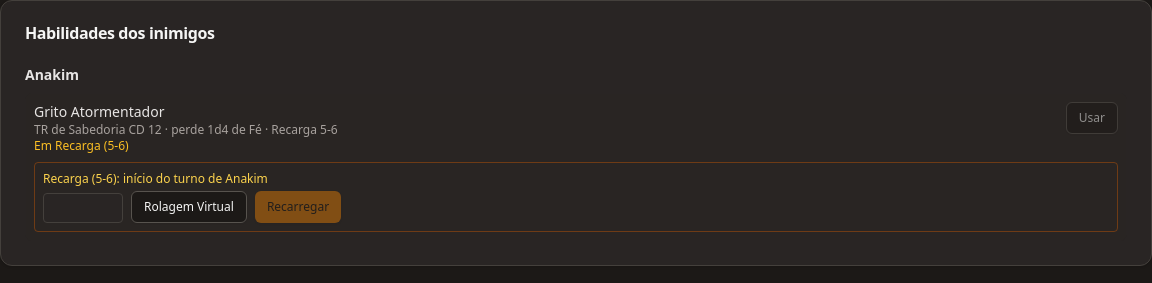
EnemyAbilityPanel: uso por combate e Recarga › só recarrega com um d6 de 1 a 6
Expected: the button with aria-label "Recarregar Grito Atormentador (Anakim)" is disabled, [255, 191, 341, 223]
Type "0" into the number field named "d6 da Recarga de Grito Atormentador (Anakim)" at [83, 208], box [43, 193, 123, 223]
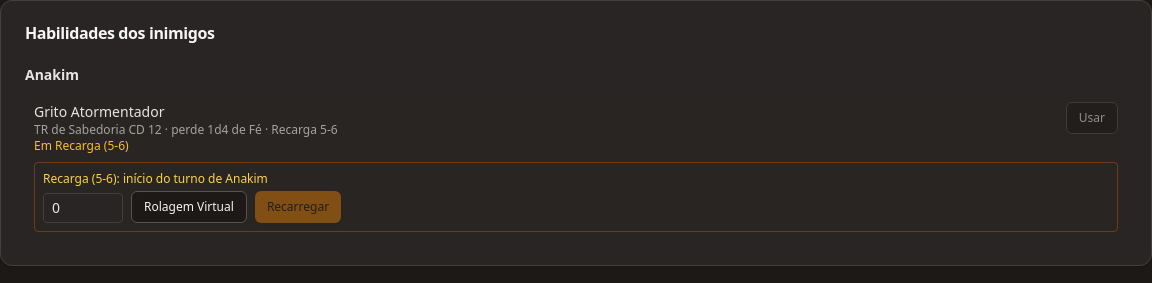
Expected: the button with aria-label "Recarregar Grito Atormentador (Anakim)" is disabled, [255, 191, 341, 223]
Replace the text in the number field named "d6 da Recarga de Grito Atormentador (Anakim)" with "7" at [83, 208], box [43, 193, 123, 223]
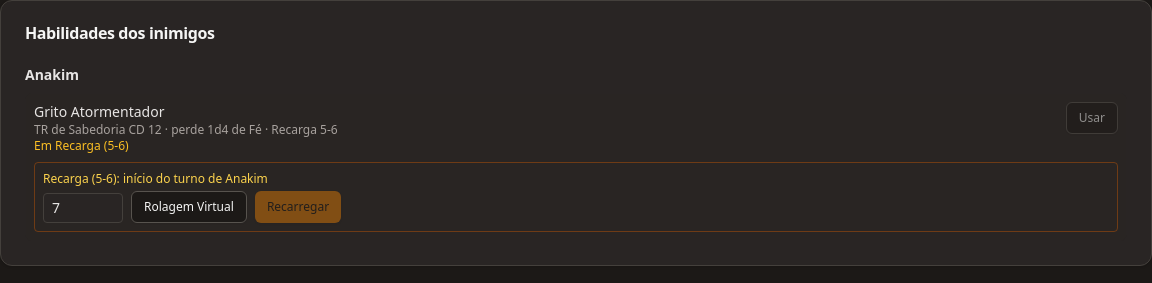
Expected: the button with aria-label "Recarregar Grito Atormentador (Anakim)" is disabled, [255, 191, 341, 223]
Replace the text in the number field named "d6 da Recarga de Grito Atormentador (Anakim)" with "2.5" at [83, 208], box [43, 193, 123, 223]
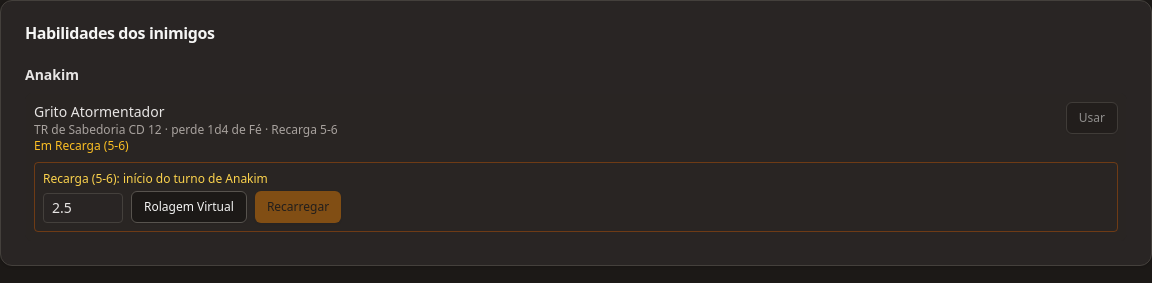
Expected: the button with aria-label "Recarregar Grito Atormentador (Anakim)" is disabled, [255, 191, 341, 223]
Replace the text in the number field named "d6 da Recarga de Grito Atormentador (Anakim)" with "6" at [83, 208], box [43, 193, 123, 223]
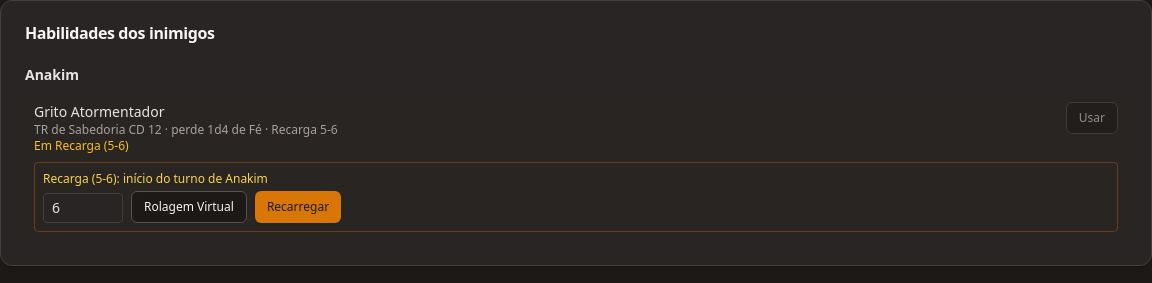
Now the button with aria-label "Recarregar Grito Atormentador (Anakim)" is enabled, box [255, 191, 341, 223]
